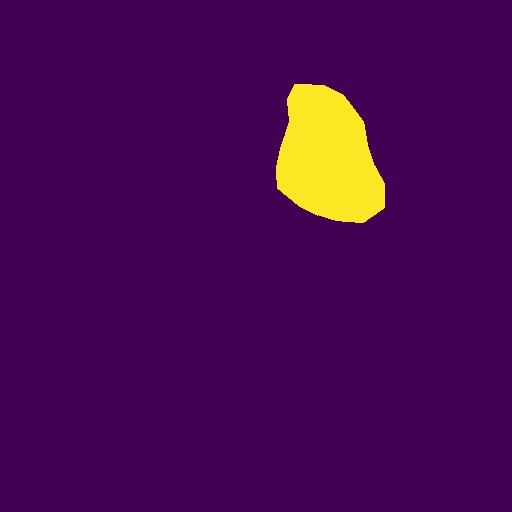Gliomia_tumour: (276, 84, 385, 223)
